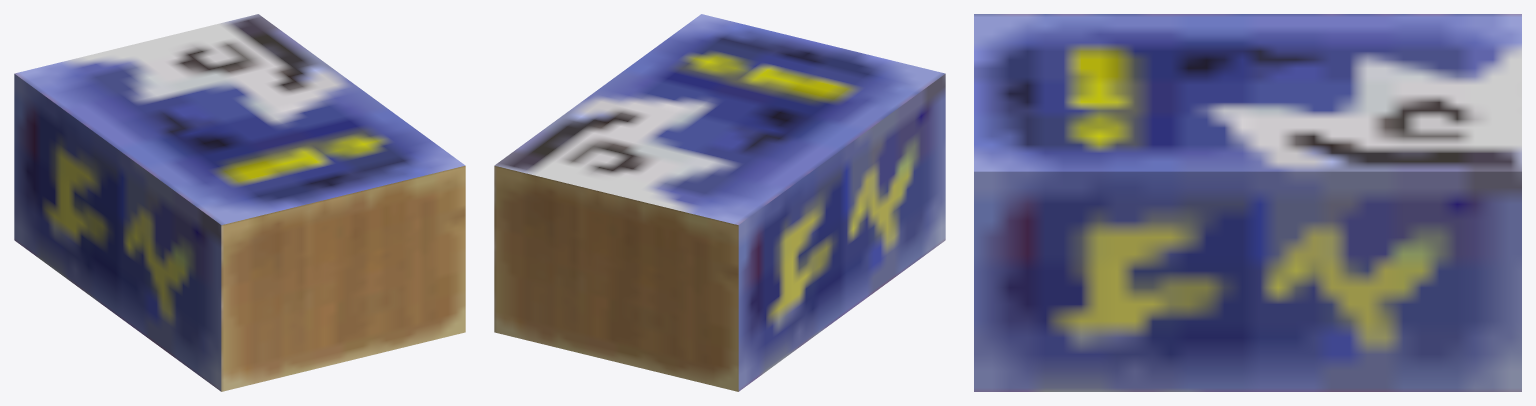
The model's file is gunshopammoboxblue.obj.
3 renders of one model, left to right at view 1: azimuth 30°, elevation 25°; view 2: azimuth 150°, elevation 25°; view 3: azimuth 270°, elevation 25°, orthographic. The views are drawn at different scales.
Parts seen in each view (by area): view 1: GunShopAmmoBoxBlue; view 2: GunShopAmmoBoxBlue; view 3: GunShopAmmoBoxBlue.
Part boxes in pixels (box(x1,y1,x2,y2)): GunShopAmmoBoxBlue: box(14, 14, 465, 391); GunShopAmmoBoxBlue: box(494, 14, 945, 391); GunShopAmmoBoxBlue: box(974, 14, 1521, 391).
Size of the model in its own units: 0.2511 by 0.1638 by 0.3689.
